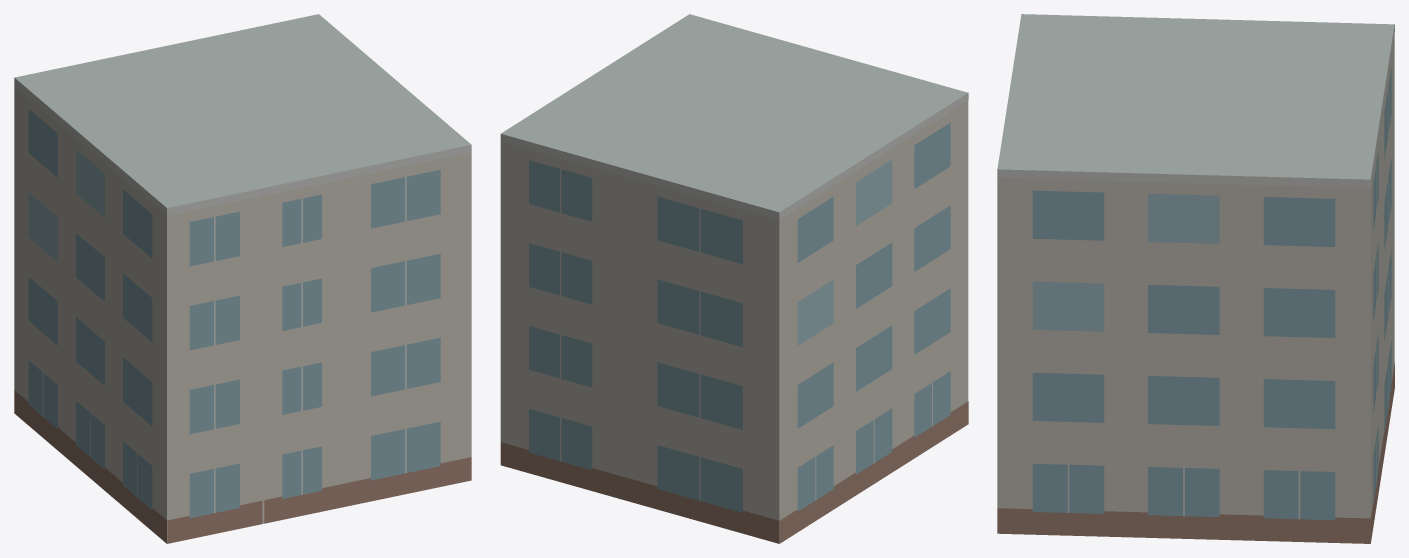
The model's file is survey-upis-33008903.glb.
The picture shows the model from 3 angles, left to right: view 1: azimuth 30°, elevation 25°; view 2: azimuth 150°, elevation 25°; view 3: azimuth 270°, elevation 25°; orthographic projection. The views are drawn at different scales.
Visible parts, largest first — view 1: survey-upis-33008903.tmp; view 2: survey-upis-33008903.tmp; view 3: survey-upis-33008903.tmp.
Boxes of the visible parts, x1,y1,x2,y2 form: survey-upis-33008903.tmp: (14, 14, 471, 543); survey-upis-33008903.tmp: (500, 14, 968, 543); survey-upis-33008903.tmp: (997, 14, 1394, 543).
Size of the model in its own units: 10.25 by 10.5 by 10.39.
